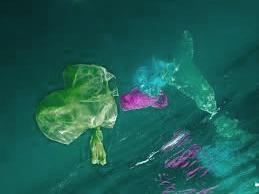Trash: (20, 59, 121, 157), (137, 45, 221, 111), (112, 81, 170, 122)
